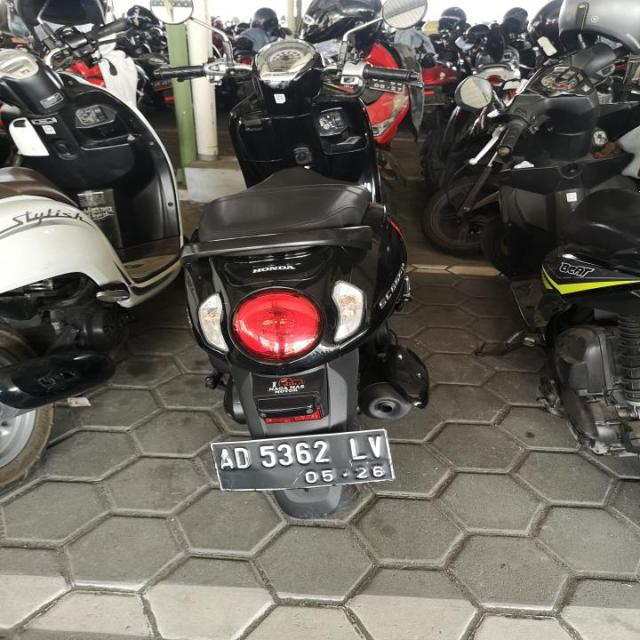License Plate: (208, 428, 396, 492)
